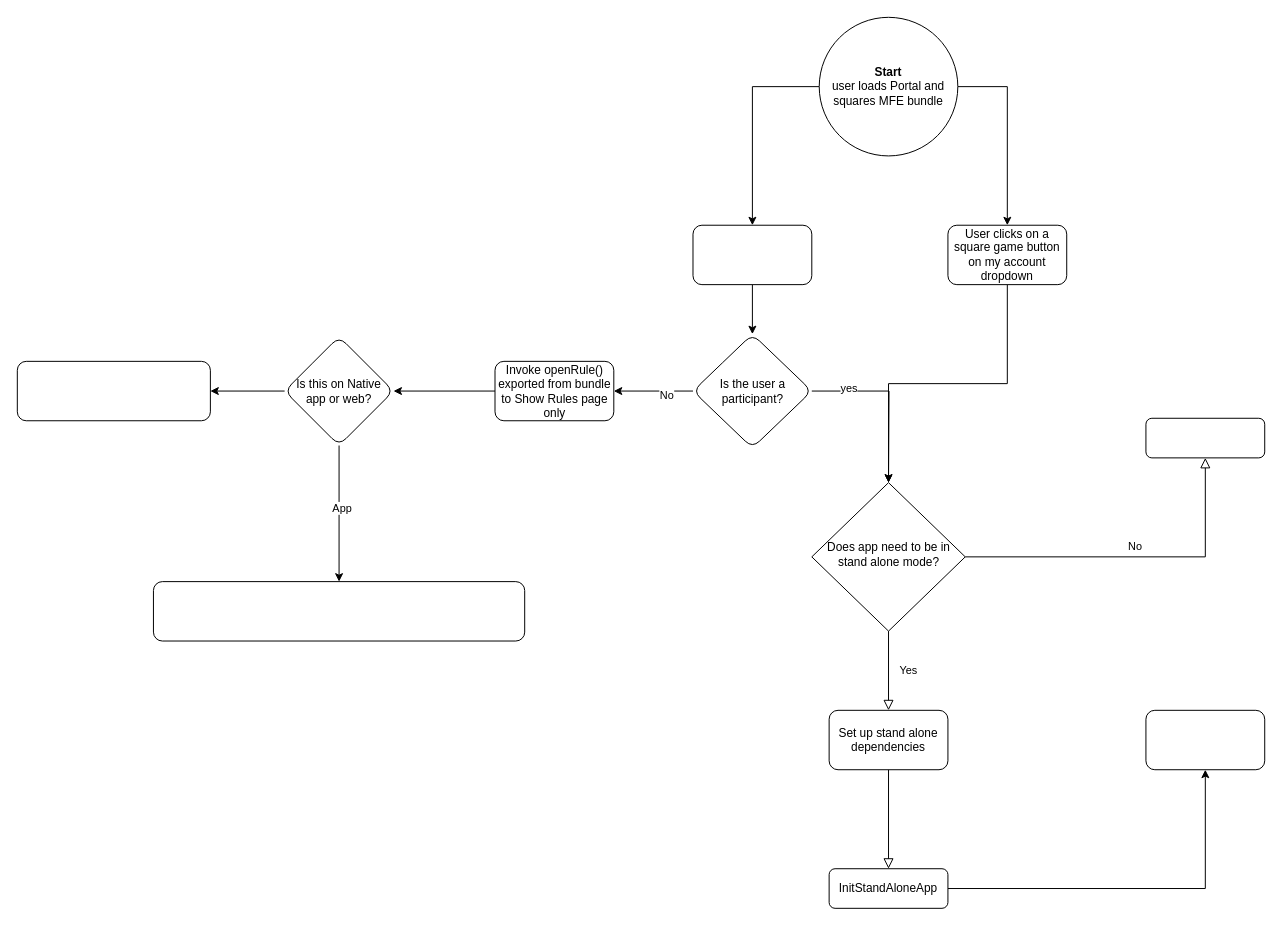
This 1282x926 diagram has some shape labels left out. The shapes that lost their labels are listed below. From the top down, each one's centre as x and y in pixels, then its label:
point 752,254: user clicks sports badge to open squares
point 113,390: triggerWebModalOpenEvent( LayoutState . RuleOnly )
point 1205,437: Plug in lamp
point 338,611: triggerAppModalOpenEvent( LayoutState.RuleOnly )
